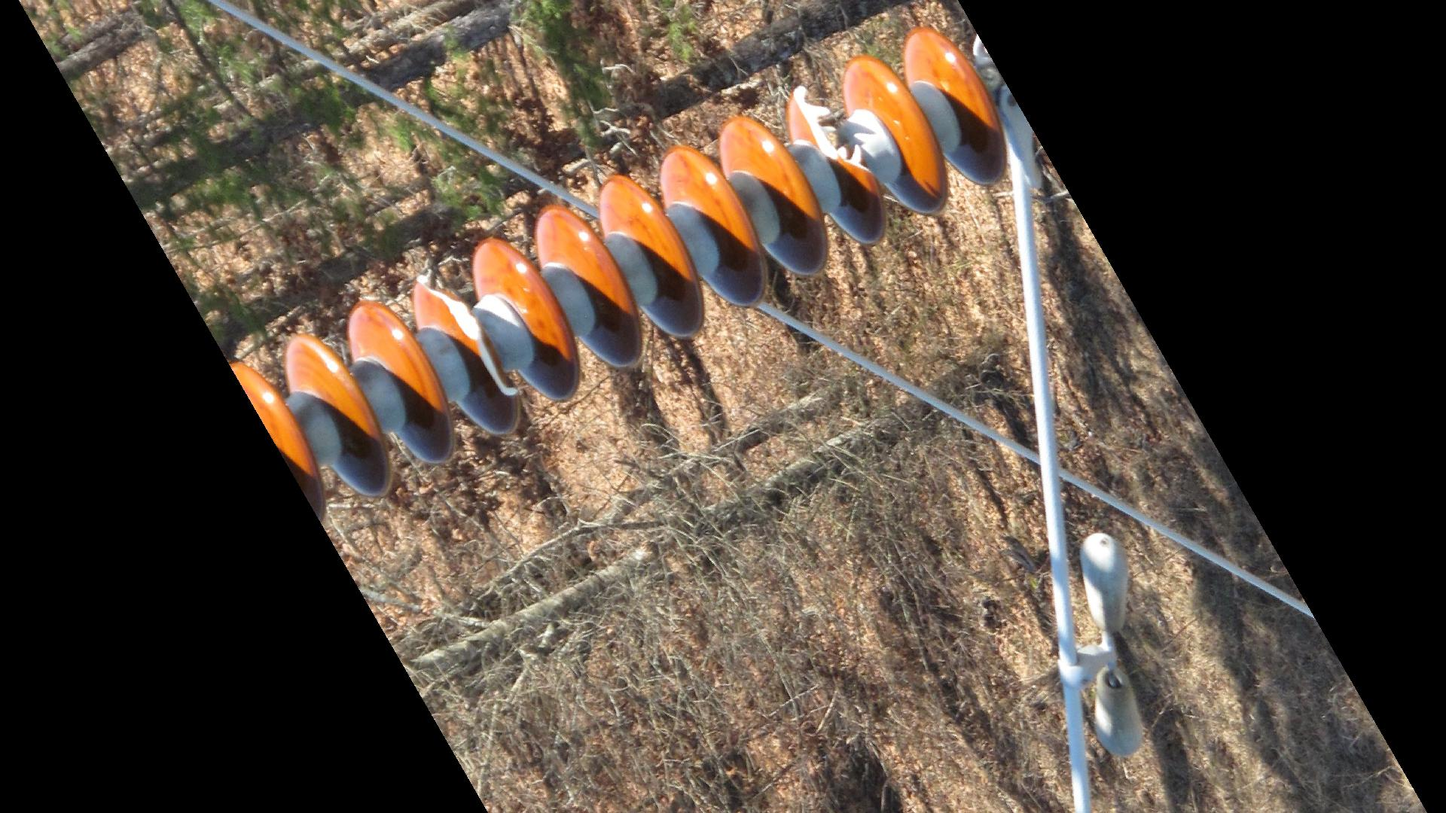insulator: (226, 21, 1017, 531)
insulator_breakage: (404, 266, 528, 408), (787, 75, 884, 193)
